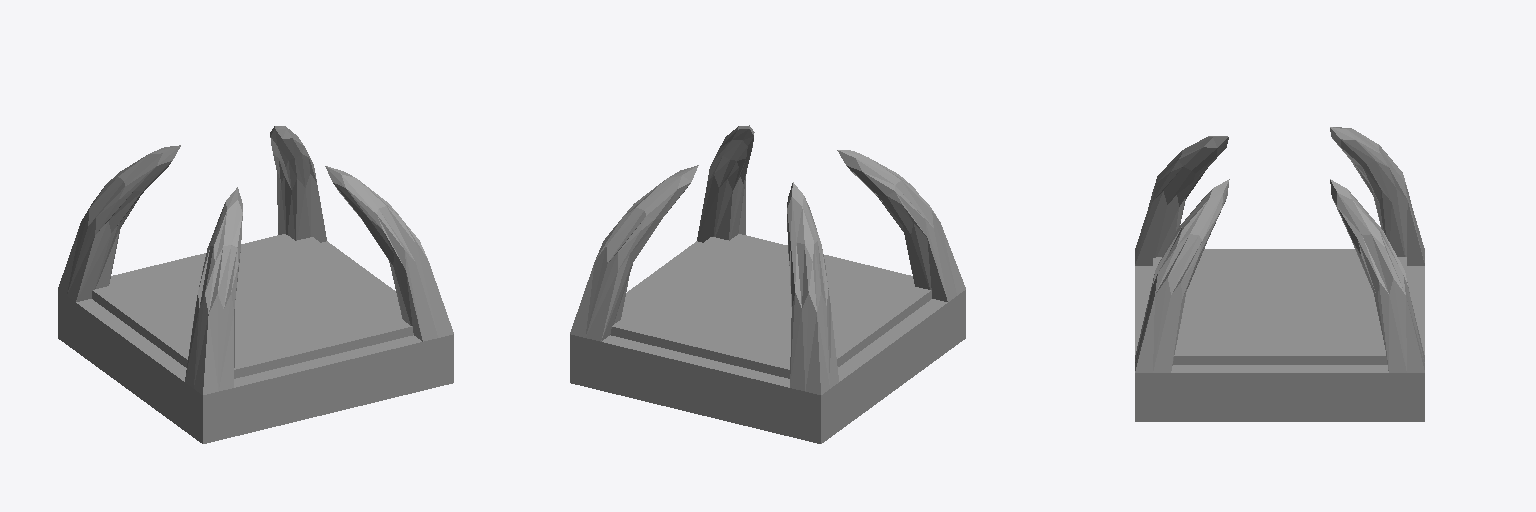
File: AstralEnergyNodeBaseplate.obj
3 views of the same model, side by side, from view 1: azimuth 30°, elevation 25°; view 2: azimuth 150°, elevation 25°; view 3: azimuth 270°, elevation 25° (orthographic).
Parts seen in each view (by area): view 1: Cube; view 2: Cube; view 3: Cube.
Boxes of the visible parts, box(x1,y1,x2,y2) form: Cube: box(58, 126, 453, 443); Cube: box(570, 125, 965, 443); Cube: box(1135, 127, 1424, 421).
Bounding box in the file's own units: 2 × 1.59 × 2.